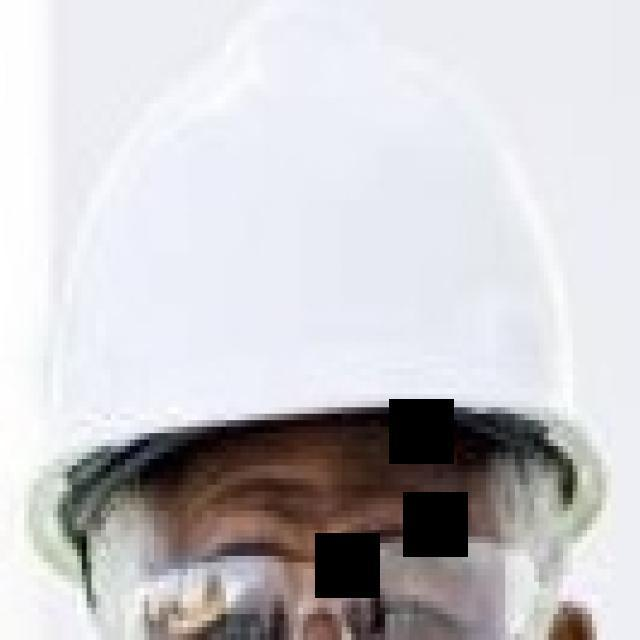white helmet: (32, 23, 616, 551)
